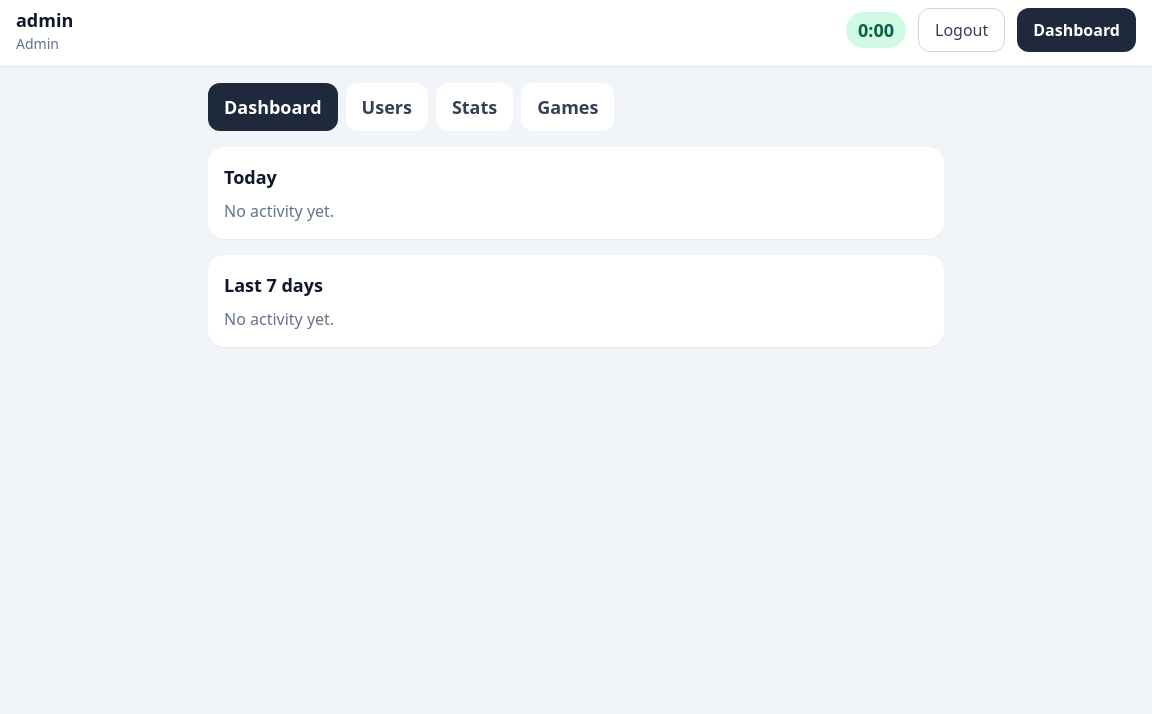
Test: T14 — admin game studio › T21 case 1–3: the admin game list reads 'N options' with unchanged economics
Click the button "Games".
click(568, 107)  # box x1=521 y1=83 x2=614 y2=131
(page scrolled)
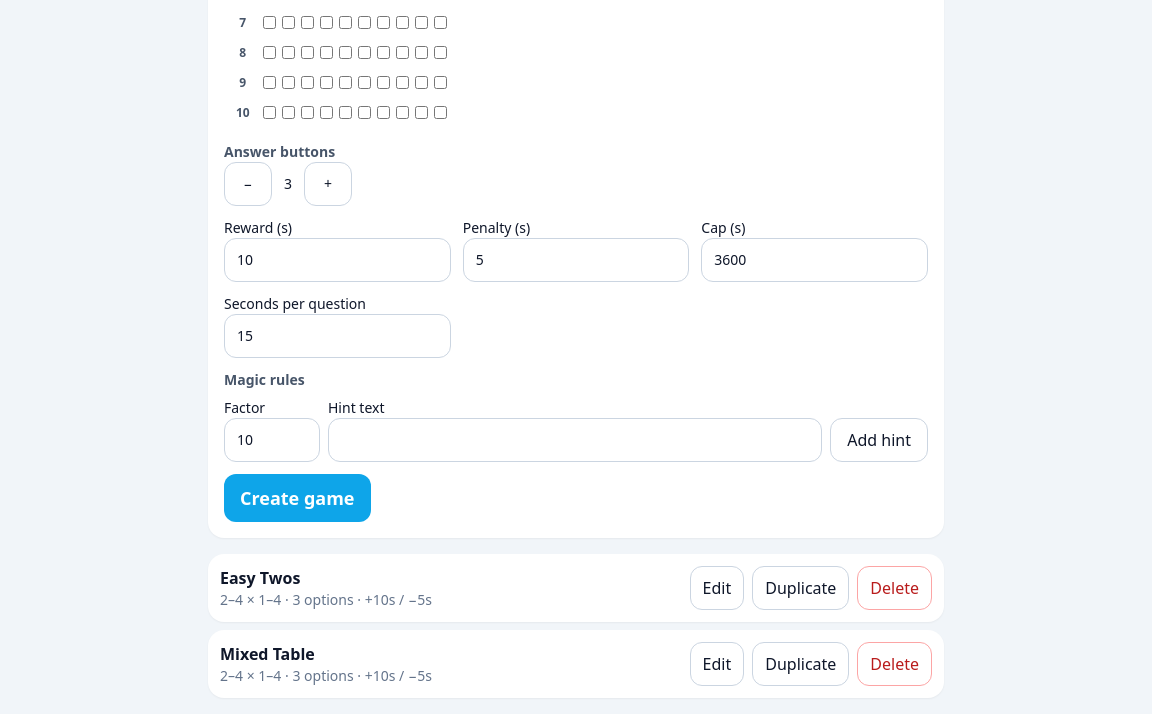
Expected: the list item with test id "admin-game-Easy Twos" does not show "3 answers", x1=208 y1=554 x2=944 y2=622
Expected: the list item with test id "admin-game-Easy Twos" shows "3 options", x1=208 y1=554 x2=944 y2=622
Expected: the list item with test id "admin-game-Easy Twos" shows "+10s / −5s", x1=208 y1=554 x2=944 y2=622
